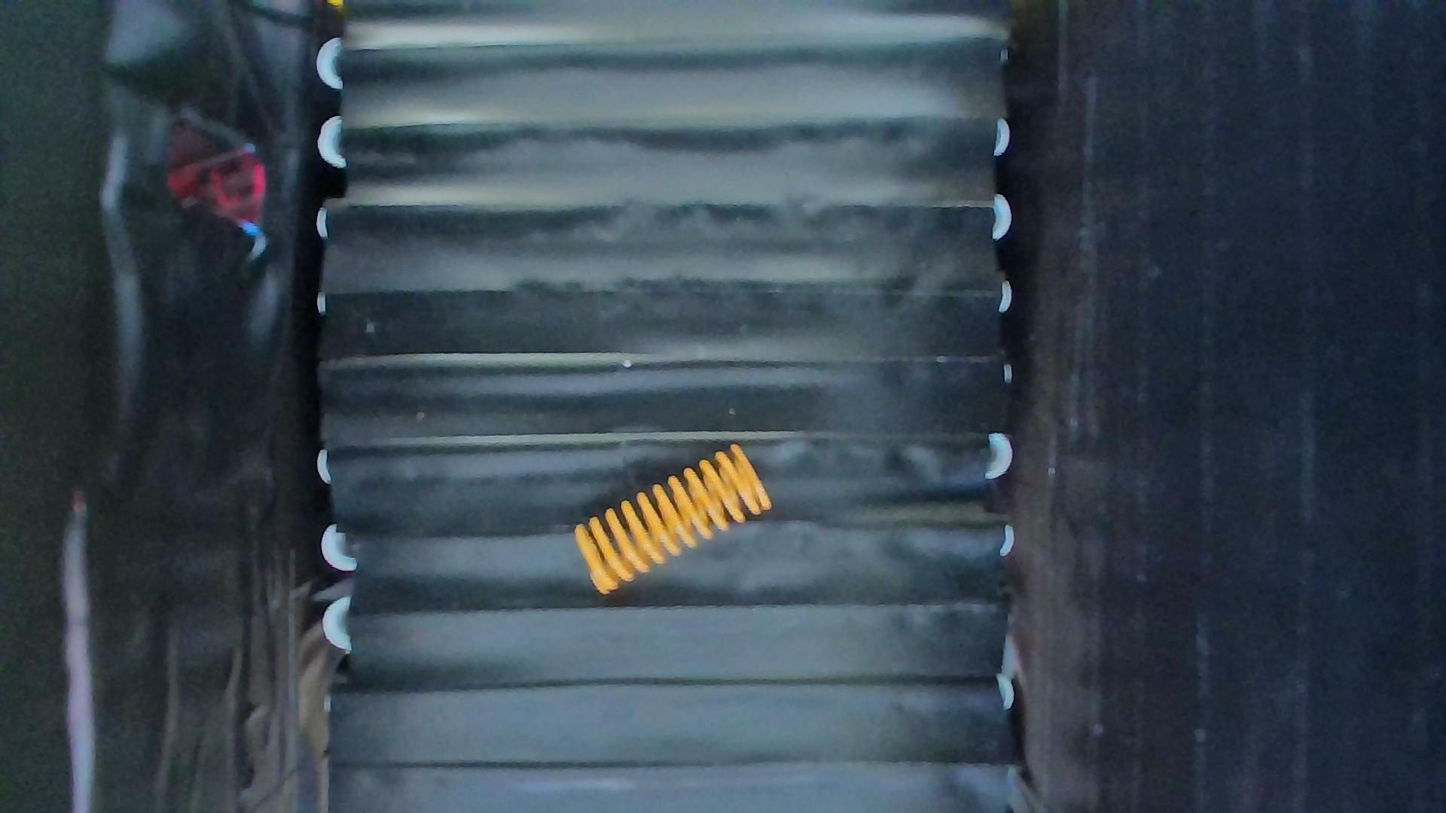spring: (571, 442, 772, 595)
